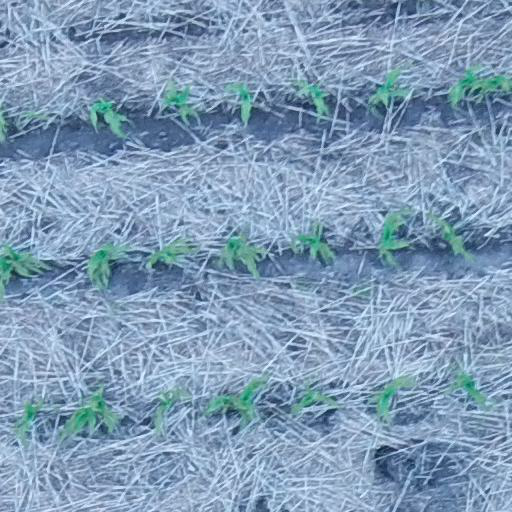planta: (202, 375, 267, 423), (59, 381, 113, 437), (223, 231, 269, 281), (429, 213, 475, 261), (87, 240, 129, 291), (374, 373, 416, 423), (377, 209, 411, 264), (89, 97, 132, 136), (368, 66, 411, 105), (161, 79, 198, 122), (289, 383, 339, 414), (448, 64, 483, 108), (153, 386, 184, 434), (446, 371, 487, 406), (296, 222, 333, 260), (16, 399, 45, 447), (148, 239, 196, 267), (296, 79, 329, 119), (224, 81, 252, 123)
